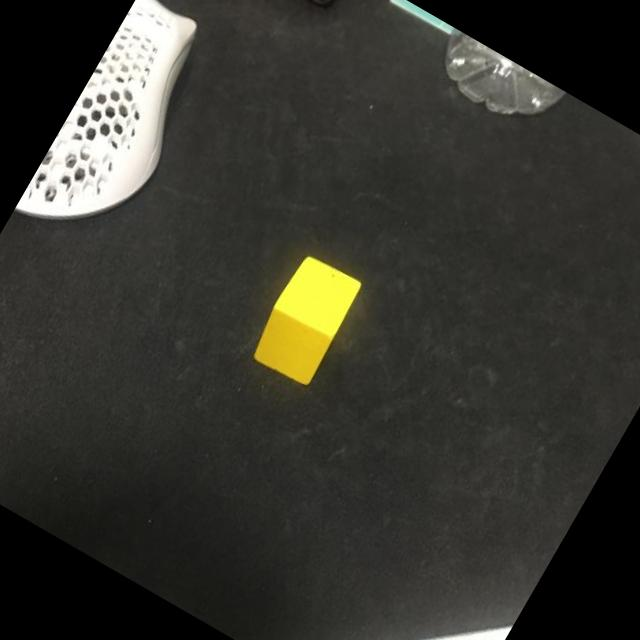yellow: (246, 250, 368, 390)
